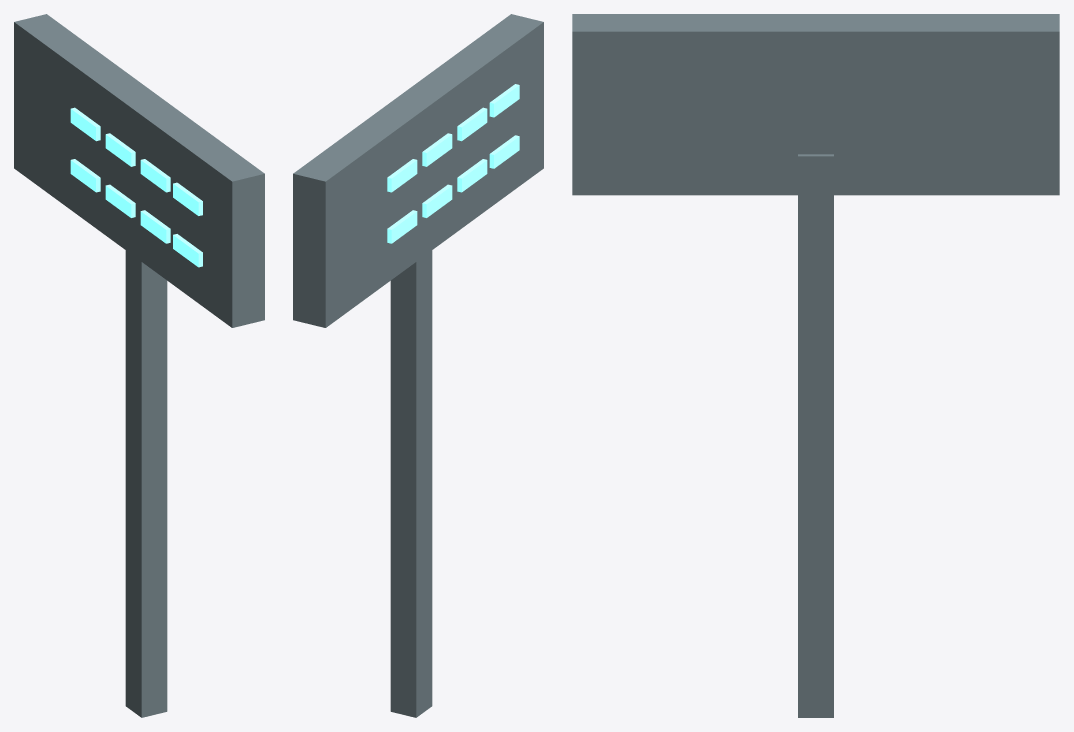
File: sign_portal_wayfinding_ShadowProxy.glb
3 renders of one model, left to right at view 1: azimuth 30°, elevation 25°; view 2: azimuth 150°, elevation 25°; view 3: azimuth 270°, elevation 25°, orthographic. The views are drawn at different scales.
Parts seen in each view (by area): view 1: sign_portal_wayfinding__surface.003; view 2: sign_portal_wayfinding__surface.003; view 3: sign_portal_wayfinding__surface.003.
Boxes of the visible parts, <box> form: sign_portal_wayfinding__surface.003: <box>14,14,264,717</box>; sign_portal_wayfinding__surface.003: <box>293,14,543,717</box>; sign_portal_wayfinding__surface.003: <box>572,14,1059,717</box>.
Bounding box in the file's own units: 0.1755 × 2.51 × 1.62.
